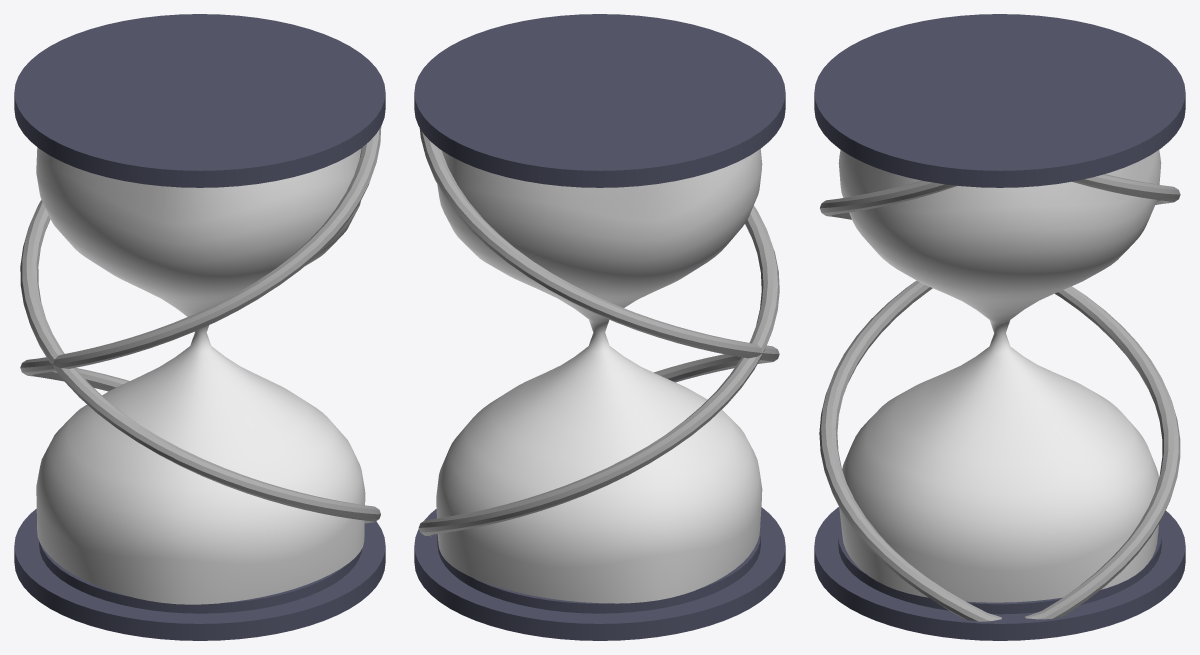
File: shalou.fbx
3 renders of one model, left to right at view 1: azimuth 30°, elevation 25°; view 2: azimuth 150°, elevation 25°; view 3: azimuth 270°, elevation 25°, orthographic.
Visible parts, largest first — view 1: boli, gaizi_1, gaizi_2, zhizhu_1, zhizhu_2, di_1; view 2: boli, gaizi_1, gaizi_2, zhizhu_2, zhizhu_1, di_1; view 3: boli, gaizi_1, gaizi_2, zhizhu_2, zhizhu_1, di_1.
Part boxes in pixels (<box>): boli: <box>36,147,365,604</box>; gaizi_1: <box>14,14,385,187</box>; gaizi_2: <box>14,509,385,640</box>; zhizhu_1: <box>20,200,380,523</box>; zhizhu_2: <box>20,126,381,391</box>; di_1: <box>39,541,361,613</box>; boli: <box>436,149,762,603</box>; gaizi_1: <box>414,14,785,187</box>; gaizi_2: <box>414,507,785,640</box>; zhizhu_2: <box>418,205,779,536</box>; zhizhu_1: <box>419,128,779,382</box>; di_1: <box>437,530,760,613</box>; boli: <box>838,150,1161,602</box>; gaizi_1: <box>814,14,1185,187</box>; gaizi_2: <box>814,507,1185,640</box>; zhizhu_2: <box>820,180,1180,619</box>; zhizhu_1: <box>819,174,1180,621</box>; di_1: <box>838,524,1161,614</box>.
Bounding box in the file's own units: 8.4 × 11.74 × 8.4.
